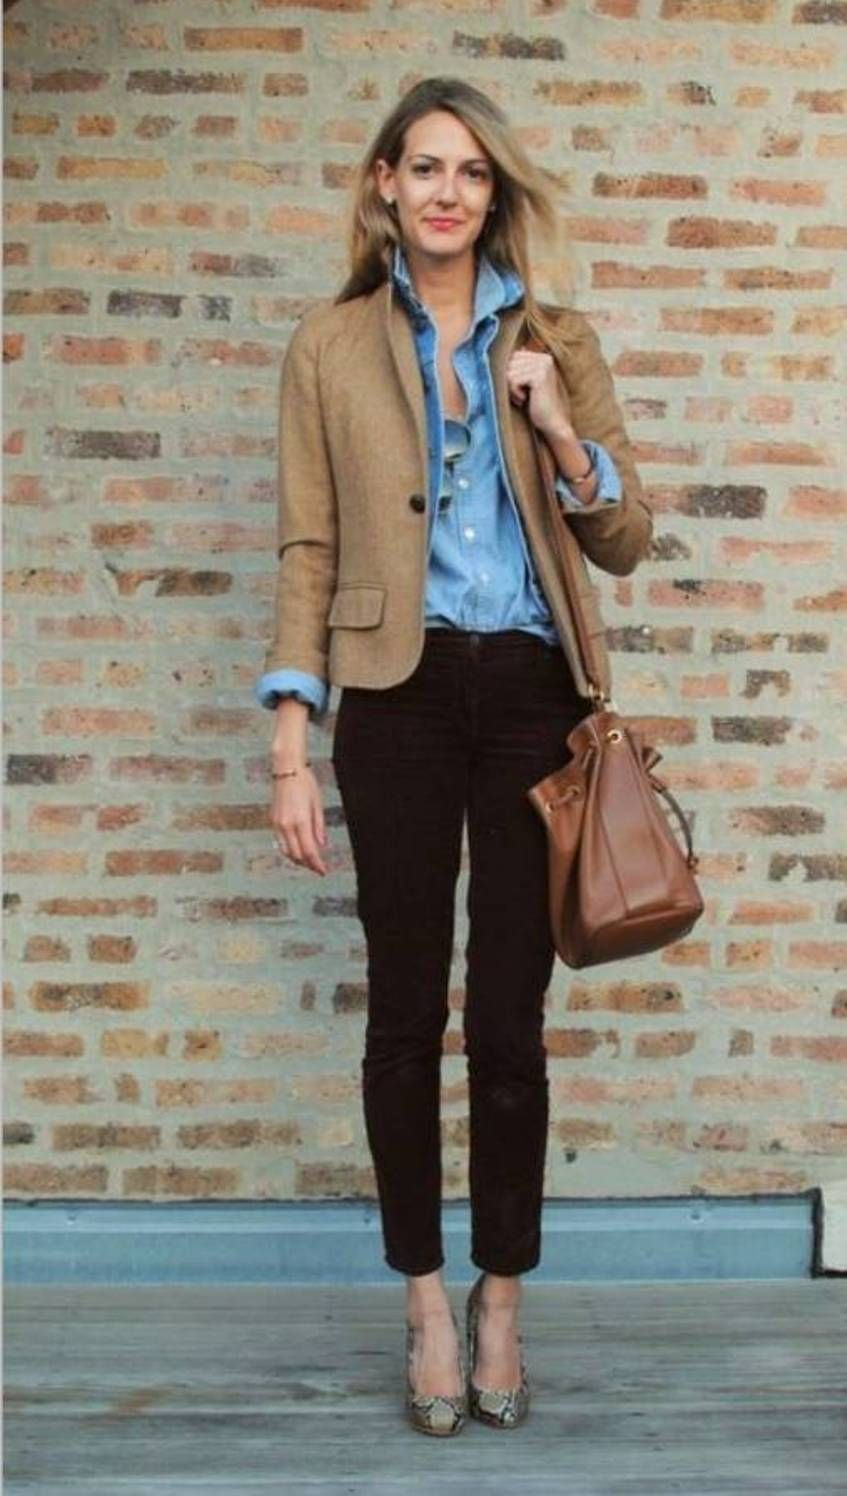F_W_suit jacket: (251, 277, 691, 723)
